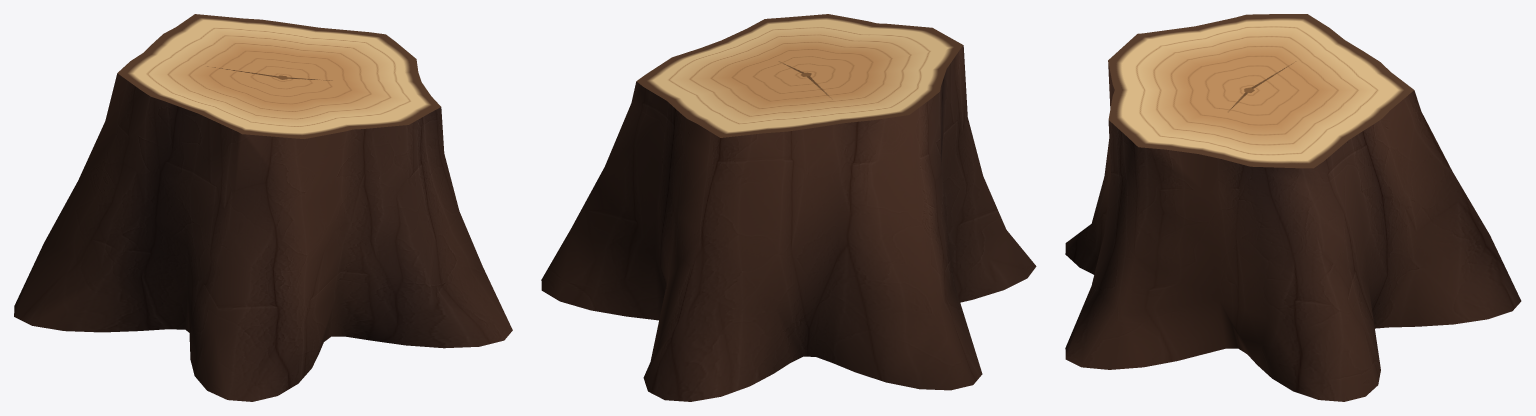
Rendered from Stump_CommonTree_1.gltf.
The picture shows the model from 3 angles, left to right: view 1: azimuth 30°, elevation 25°; view 2: azimuth 150°, elevation 25°; view 3: azimuth 270°, elevation 25°; orthographic projection. The views are drawn at different scales.
Parts seen in each view (by area): view 1: Stump_CommonTree_1; view 2: Stump_CommonTree_1; view 3: Stump_CommonTree_1.
Boxes of the visible parts, left/top/right/bottom form: Stump_CommonTree_1: left=14, top=14, right=512, bottom=401; Stump_CommonTree_1: left=541, top=14, right=1036, bottom=401; Stump_CommonTree_1: left=1065, top=14, right=1521, bottom=401.
Size of the model in its own units: 1.42 by 0.7385 by 1.35.
2 materials, 2 textured.
